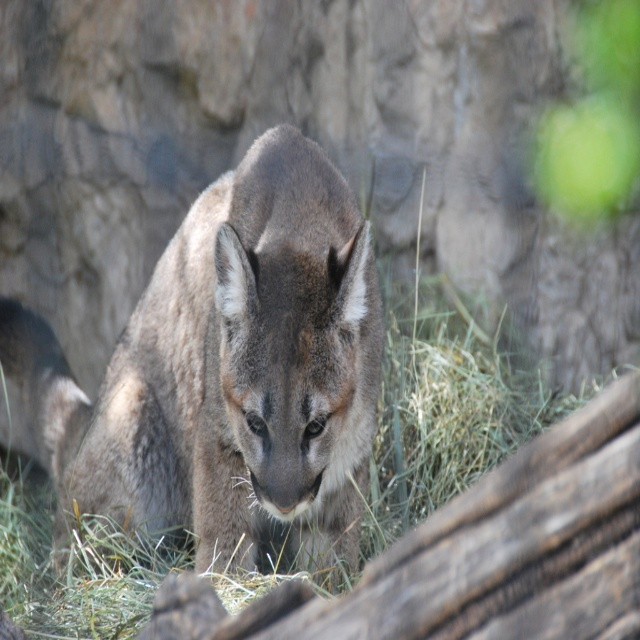Lynx: (0, 121, 385, 598)
